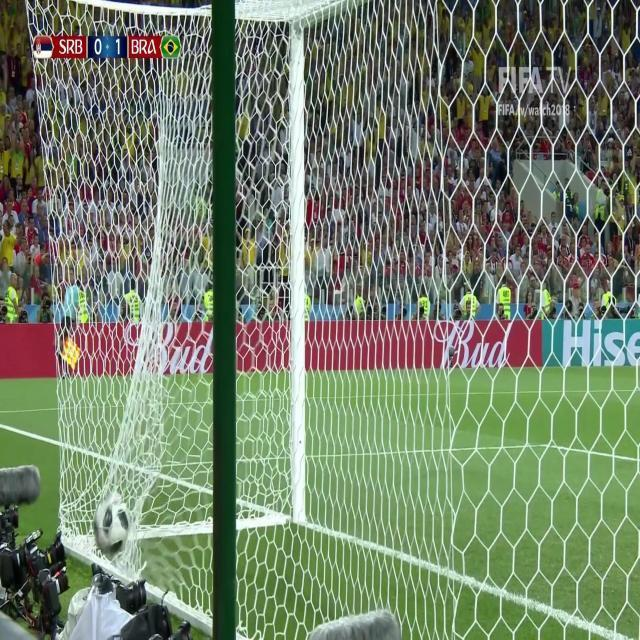ball: (93, 491, 131, 559)
